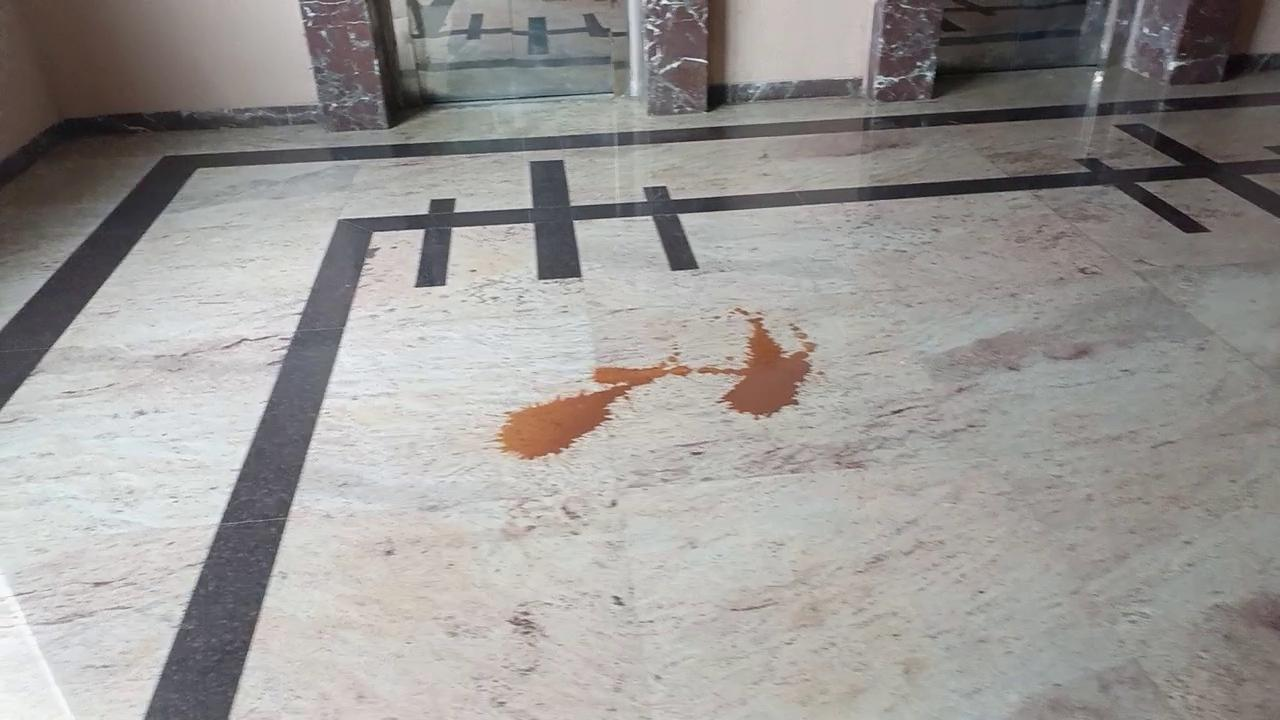dirty_floor: (495, 304, 813, 465)
